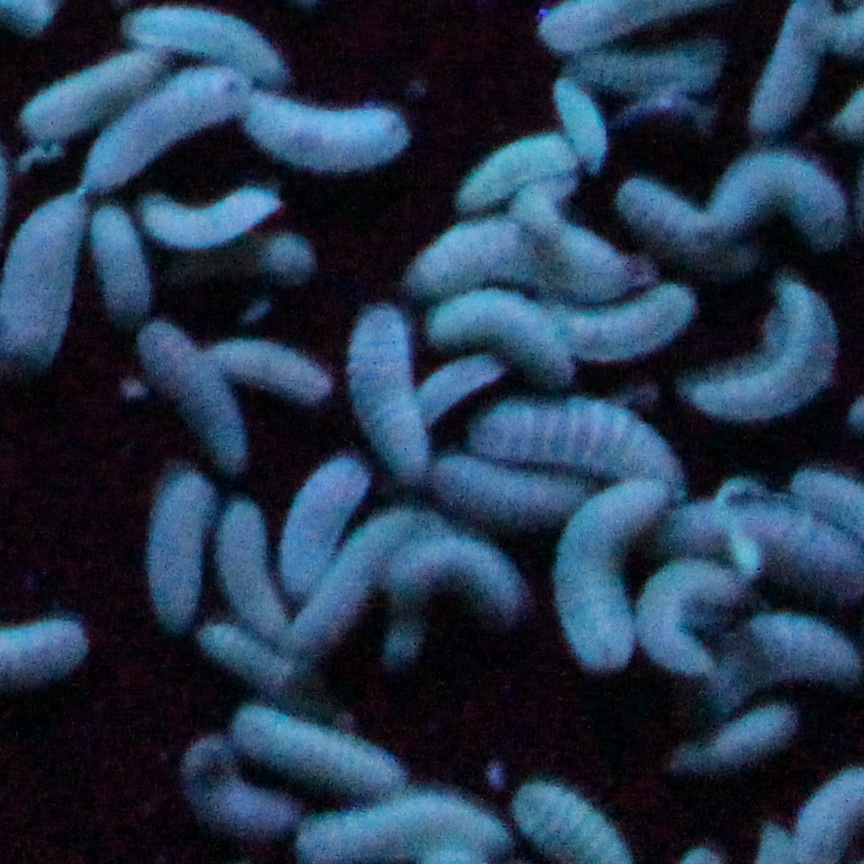larve: (329, 297, 433, 476), (94, 76, 247, 193), (704, 288, 845, 411), (564, 475, 652, 664), (377, 521, 534, 625), (132, 327, 244, 465), (474, 394, 663, 474), (682, 506, 863, 588), (122, 4, 292, 91), (238, 705, 400, 795), (241, 94, 411, 177), (17, 51, 167, 142), (135, 467, 216, 634), (286, 800, 511, 860), (428, 292, 580, 380), (436, 450, 577, 537), (708, 165, 848, 240), (554, 293, 697, 362), (284, 451, 352, 594), (624, 182, 729, 274), (408, 222, 562, 283), (205, 336, 329, 408), (202, 625, 317, 697), (89, 201, 155, 325), (643, 563, 717, 670), (138, 190, 278, 244), (464, 138, 575, 203), (225, 500, 277, 629), (570, 52, 722, 93), (548, 79, 611, 171), (669, 729, 803, 770)
